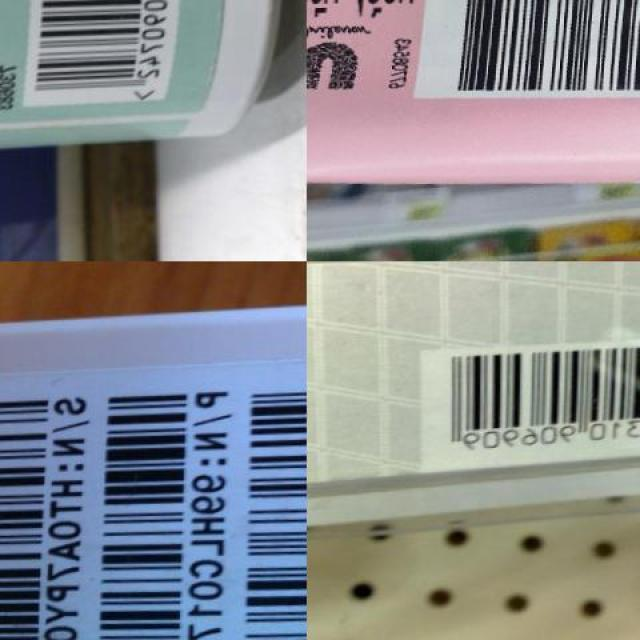Barcode: (421, 340, 640, 457), (424, 0, 640, 103), (232, 365, 307, 640), (24, 0, 184, 107)
